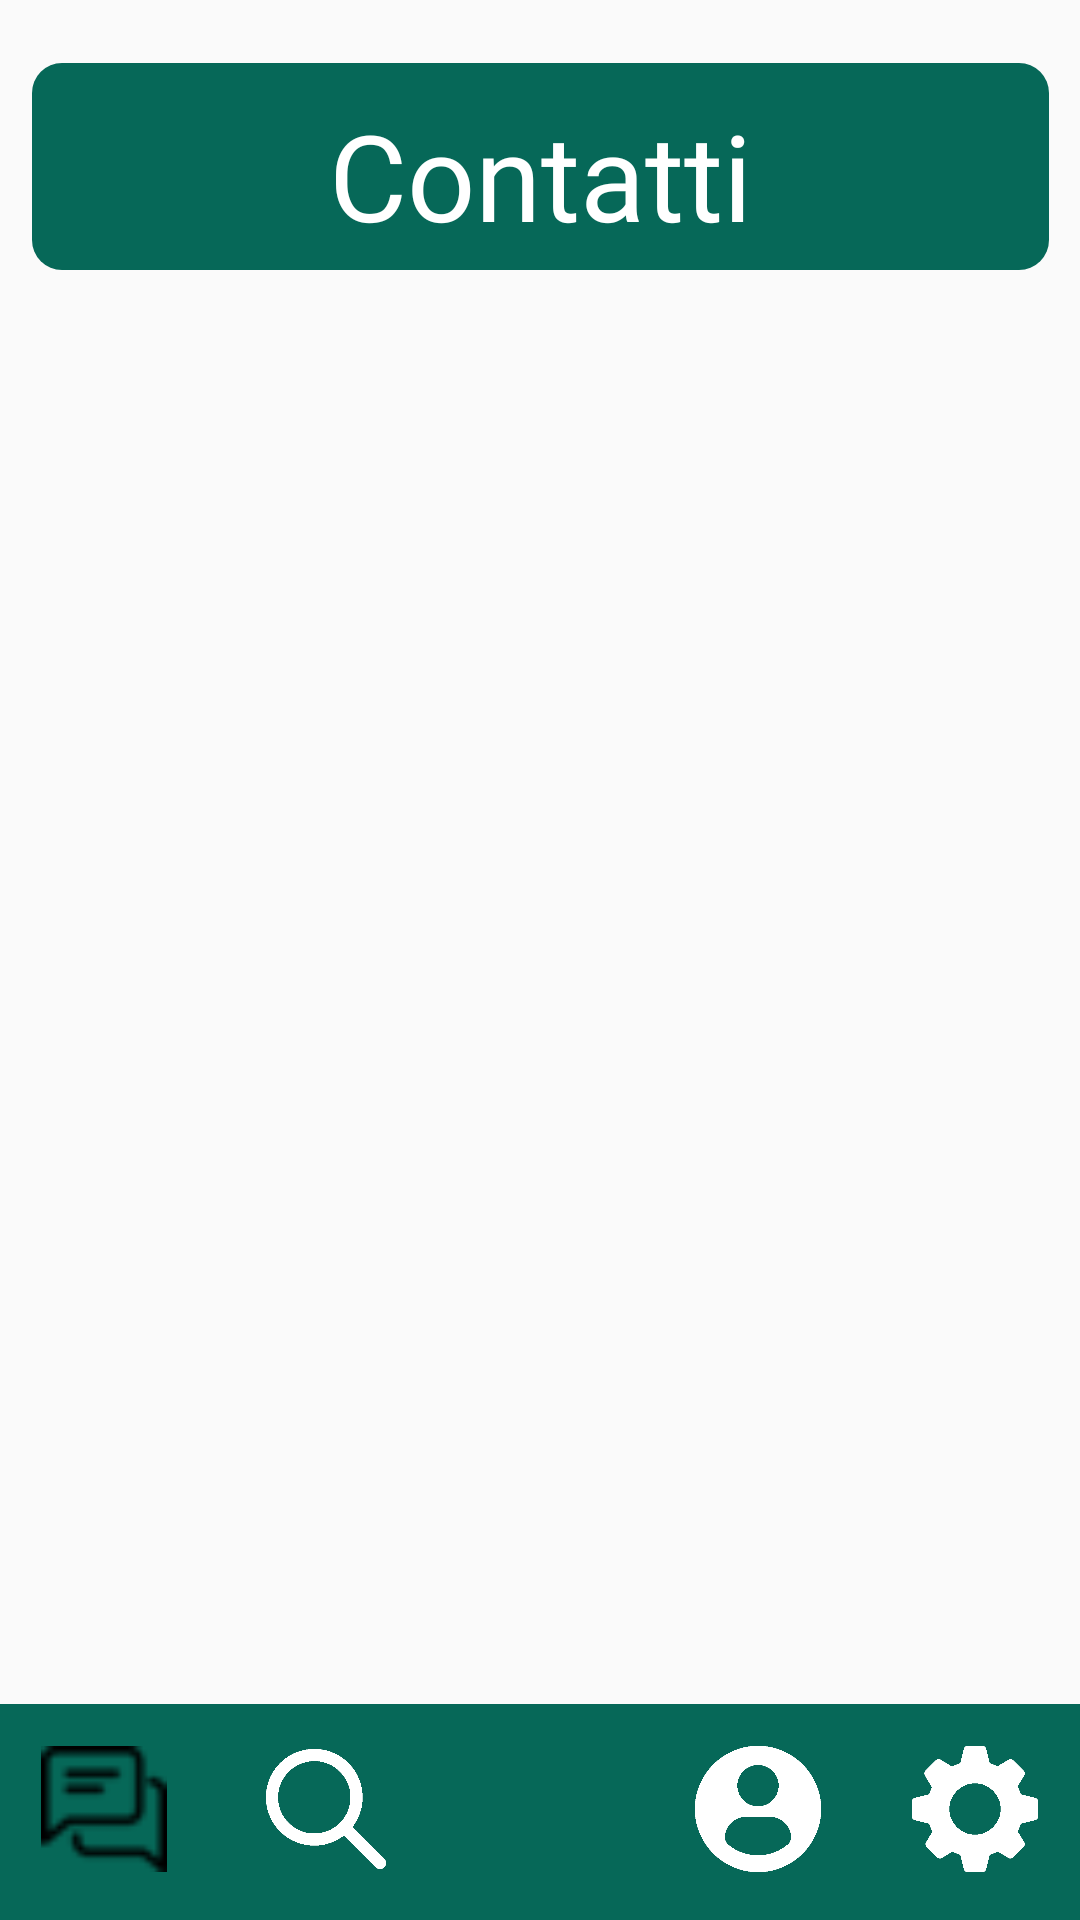

Where to tap for icons on this 1080*1920 app screen, as [x,y]:
chatblack: [104,1809]
searchwhite: [326,1809]
